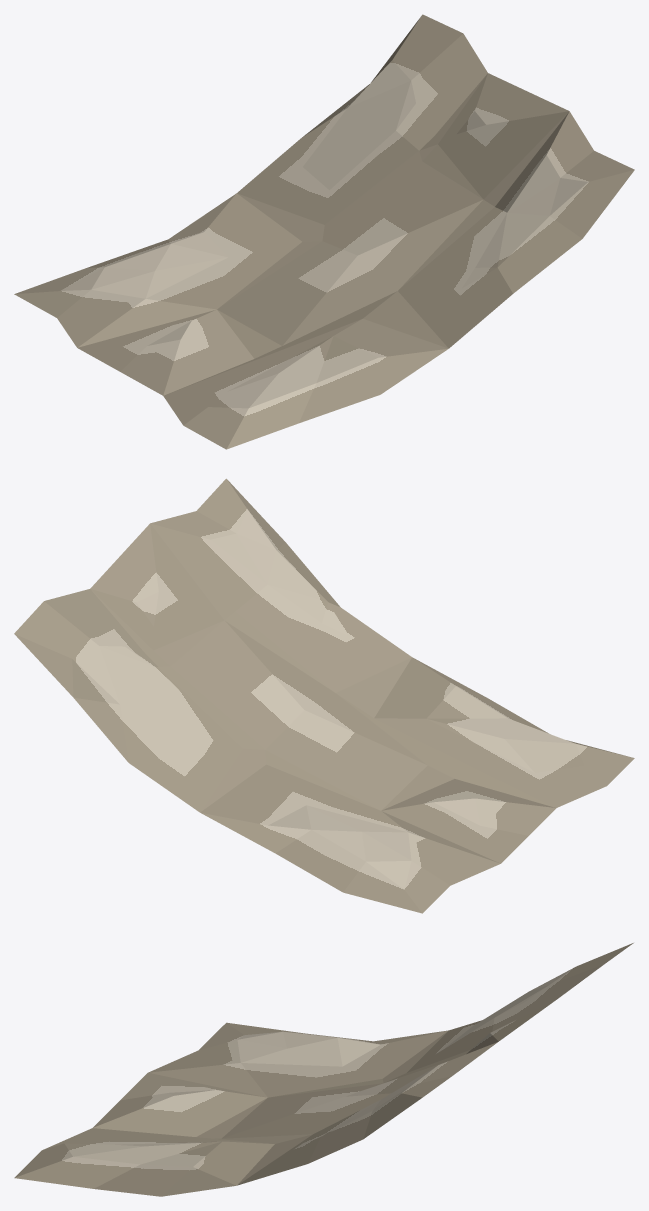
Rendered from SoftArch_01.fbx.
3 views of the same model, one above another, from view 1: azimuth 30°, elevation 25°; view 2: azimuth 150°, elevation 25°; view 3: azimuth 330°, elevation 25° (orthographic).
Visible parts, largest first — view 1: SoftArch_01; view 2: SoftArch_01; view 3: SoftArch_01.
Part boxes in pixels (bbox=[...]): SoftArch_01: bbox=[14, 14, 634, 449]; SoftArch_01: bbox=[14, 478, 634, 913]; SoftArch_01: bbox=[14, 943, 633, 1196].
Size of the model in its own units: 115 by 48.29 by 103.
Materials: 1 (1 with a texture image).
